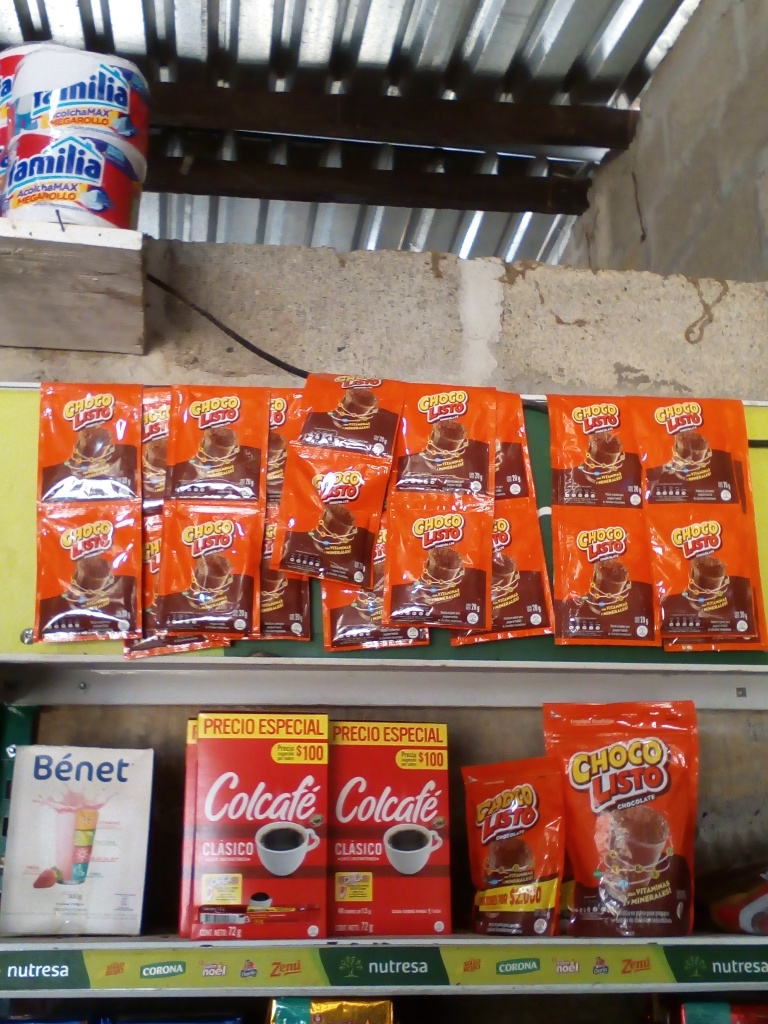COL0170103SOB02000: (38, 382, 147, 503)
